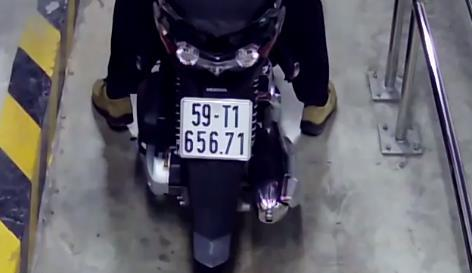lisence: (179, 97, 252, 161)
